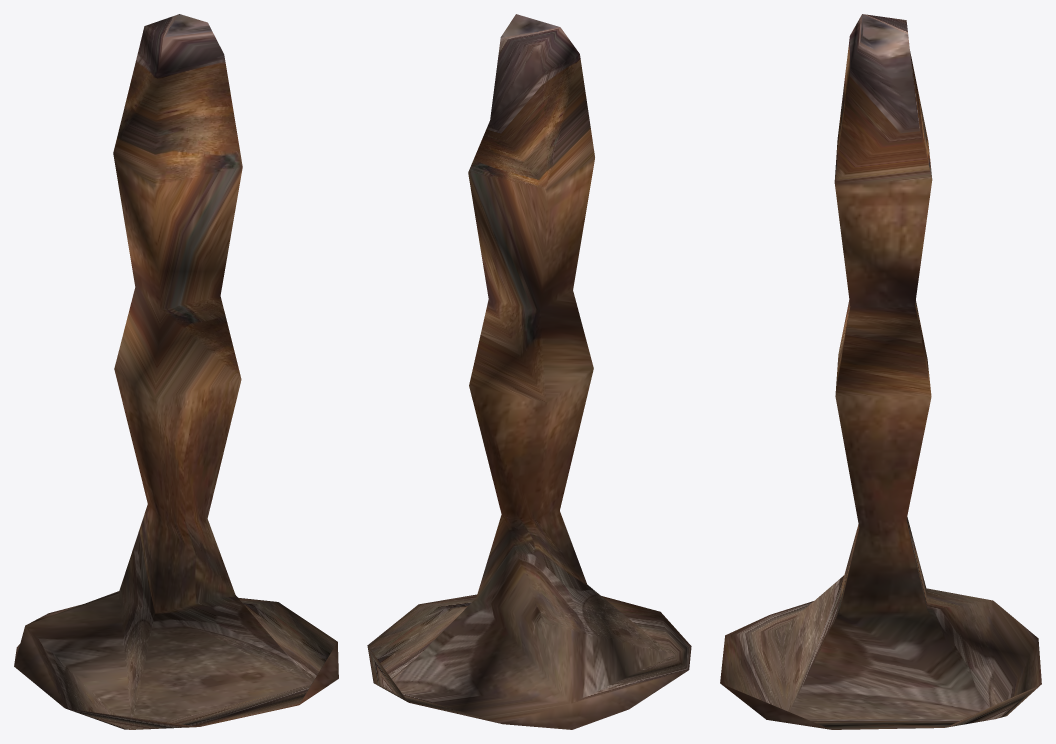
File: wooden_candlestick_lod1.glb
3 views of the same model, side by side, from view 1: azimuth 30°, elevation 25°; view 2: azimuth 150°, elevation 25°; view 3: azimuth 270°, elevation 25° (orthographic).
Parts seen in each view (by area): view 1: wooden_candlestick; view 2: wooden_candlestick; view 3: wooden_candlestick.
Part boxes in pixels (x1,y1,x2,y2): wooden_candlestick: (14,14,338,729); wooden_candlestick: (367,14,691,729); wooden_candlestick: (720,14,1041,729).
Bounding box in the file's own units: 0.093 × 0.211 × 0.094.
Materials: 1 (1 with a texture image).
